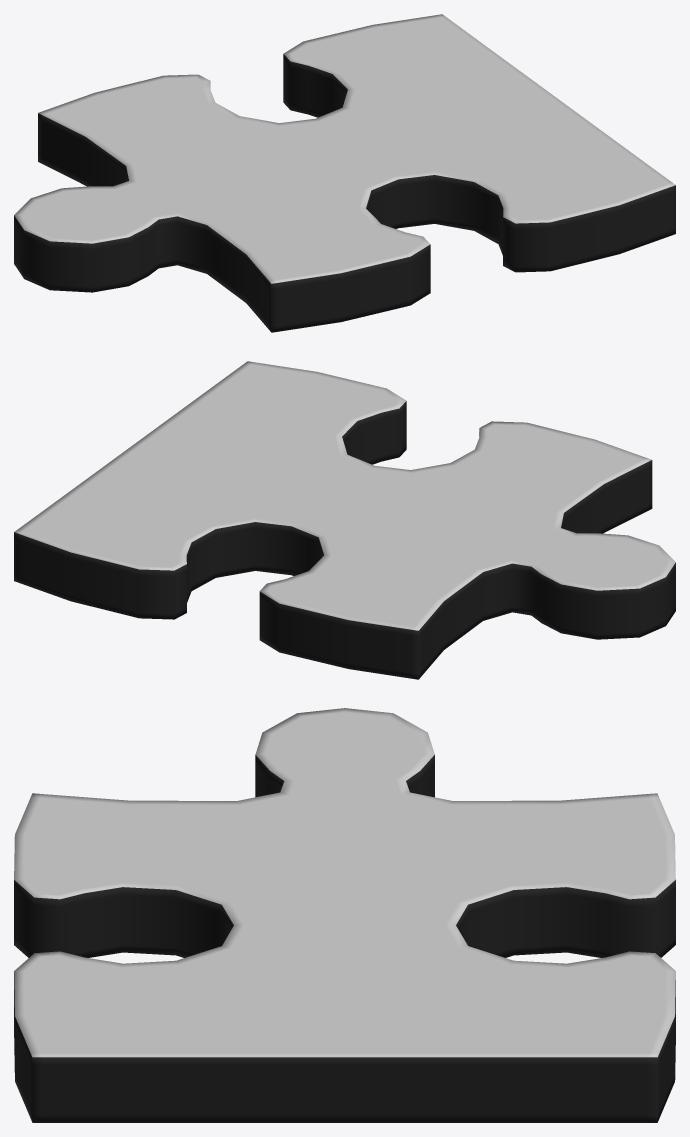
The picture shows the model from 3 angles, top to bottom: view 1: azimuth 30°, elevation 25°; view 2: azimuth 150°, elevation 25°; view 3: azimuth 270°, elevation 25°; orthographic projection. The views are drawn at different scales.
Parts seen in each view (by area): view 1: puzzle59; view 2: puzzle59; view 3: puzzle59.
Boxes of the visible parts, bbox=[...] form: puzzle59: bbox=[14, 14, 675, 332]; puzzle59: bbox=[14, 361, 675, 679]; puzzle59: bbox=[14, 708, 675, 1122].
Bounding box in the file's own units: 3.94 × 0.344 × 3.15.
